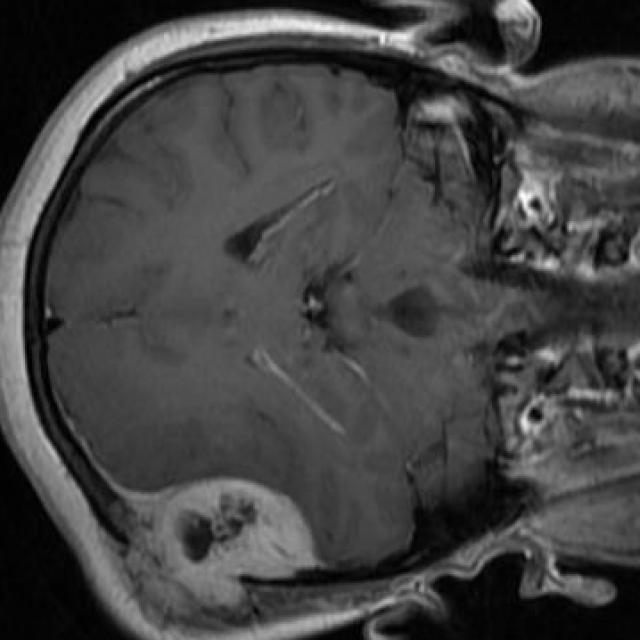meningioma: (114, 478, 314, 610)
